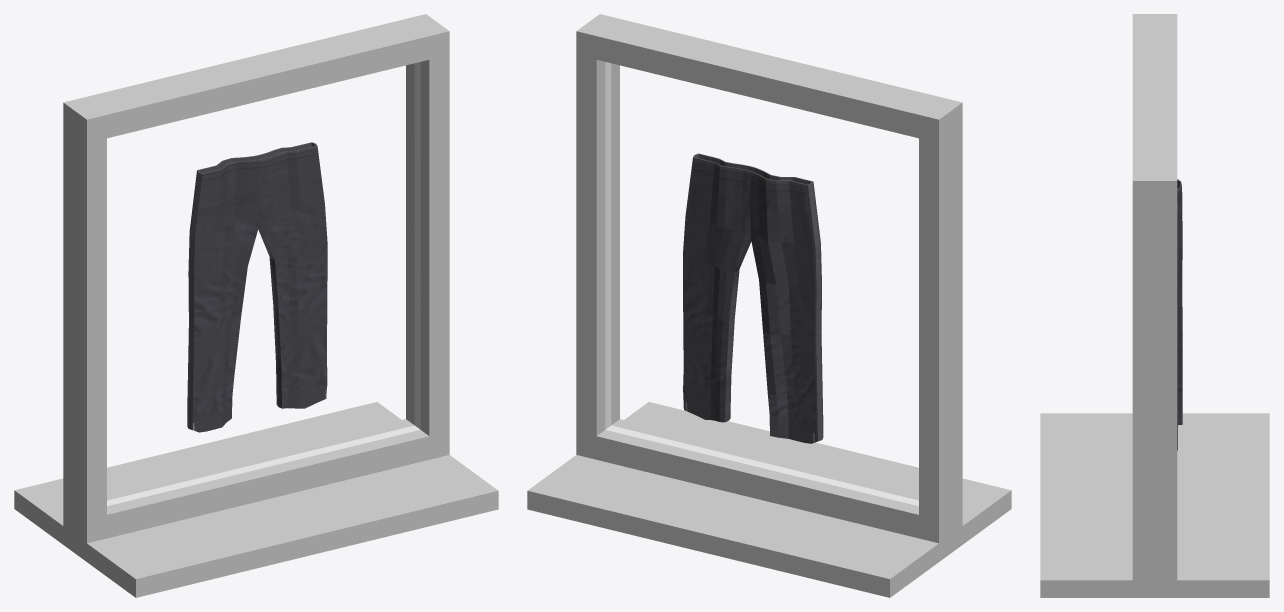
The model's file is chino_grey.glb.
3 renders of one model, left to right at view 1: azimuth 30°, elevation 25°; view 2: azimuth 150°, elevation 25°; view 3: azimuth 270°, elevation 25°, orthographic. The views are drawn at different scales.
Parts seen in each view (by area): view 1: Cube.015, Plane.016; view 2: Cube.015, Plane.016; view 3: Cube.015, Plane.016.
Part boxes in pixels (left/top/right/bottom): Cube.015: left=14, top=14, right=498, bottom=597; Plane.016: left=187, top=142, right=327, bottom=432; Cube.015: left=527, top=14, right=1011, bottom=597; Plane.016: left=683, top=153, right=823, bottom=443; Cube.015: left=1040, top=14, right=1269, bottom=597; Plane.016: left=1177, top=179, right=1182, bottom=450.
Bounding box in the file's own units: 0.6242 × 0.7276 × 0.362.
3 materials, 1 textured.
